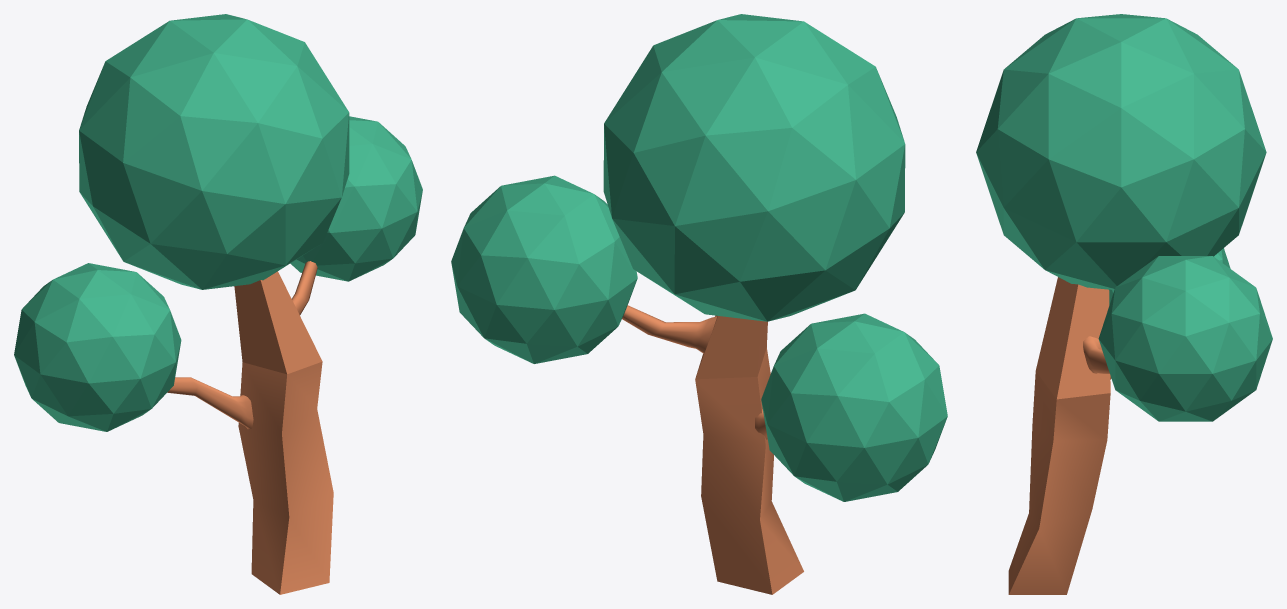
Rendered from tree_3.fbx.
The picture shows the model from 3 angles, left to right: view 1: azimuth 30°, elevation 25°; view 2: azimuth 150°, elevation 25°; view 3: azimuth 270°, elevation 25°; orthographic projection. The views are drawn at different scales.
Visible parts, largest first — view 1: tree_3; view 2: tree_3; view 3: tree_3.
Part boxes in pixels (bbox=[...]): tree_3: bbox=[14, 14, 422, 594]; tree_3: bbox=[451, 14, 947, 594]; tree_3: bbox=[976, 14, 1272, 594].
Bounding box in the file's own units: 162 × 205 × 102.
